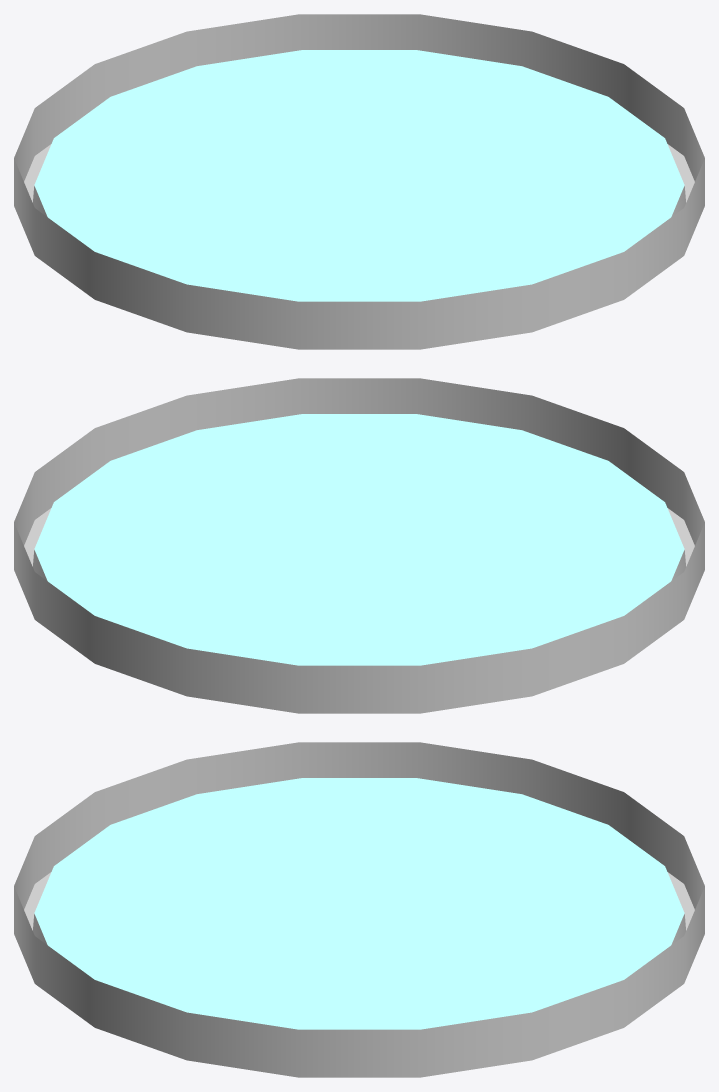
Rendered from TopLight.fbx.
3 renders of one model, top to bottom at view 1: azimuth 30°, elevation 25°; view 2: azimuth 150°, elevation 25°; view 3: azimuth 270°, elevation 25°, orthographic.
Parts seen in each view (by area): view 1: Light; view 2: Light; view 3: Light.
Part boxes in pixels (box(x1,y1,x2,y2)): Light: box(14, 14, 704, 349); Light: box(14, 378, 704, 713); Light: box(14, 742, 704, 1077).
Bounding box in the file's own units: 197 × 15.31 × 200.
